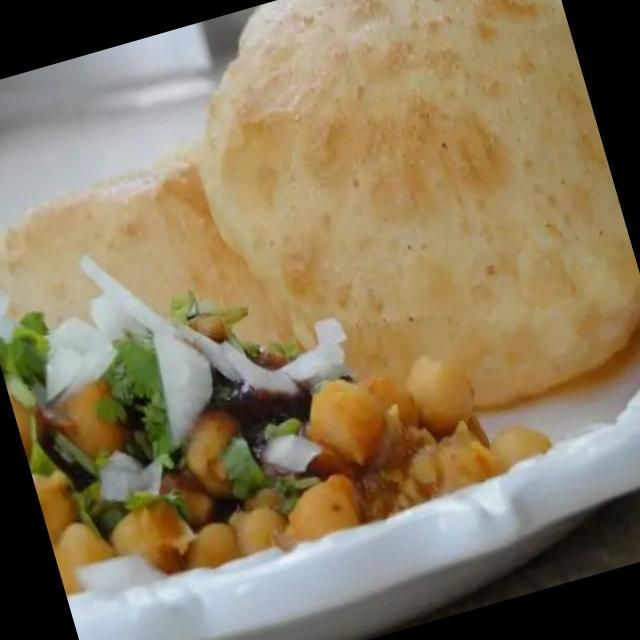Bhatura: (159, 0, 640, 468), (0, 128, 303, 452)
Chole: (0, 197, 555, 601)
